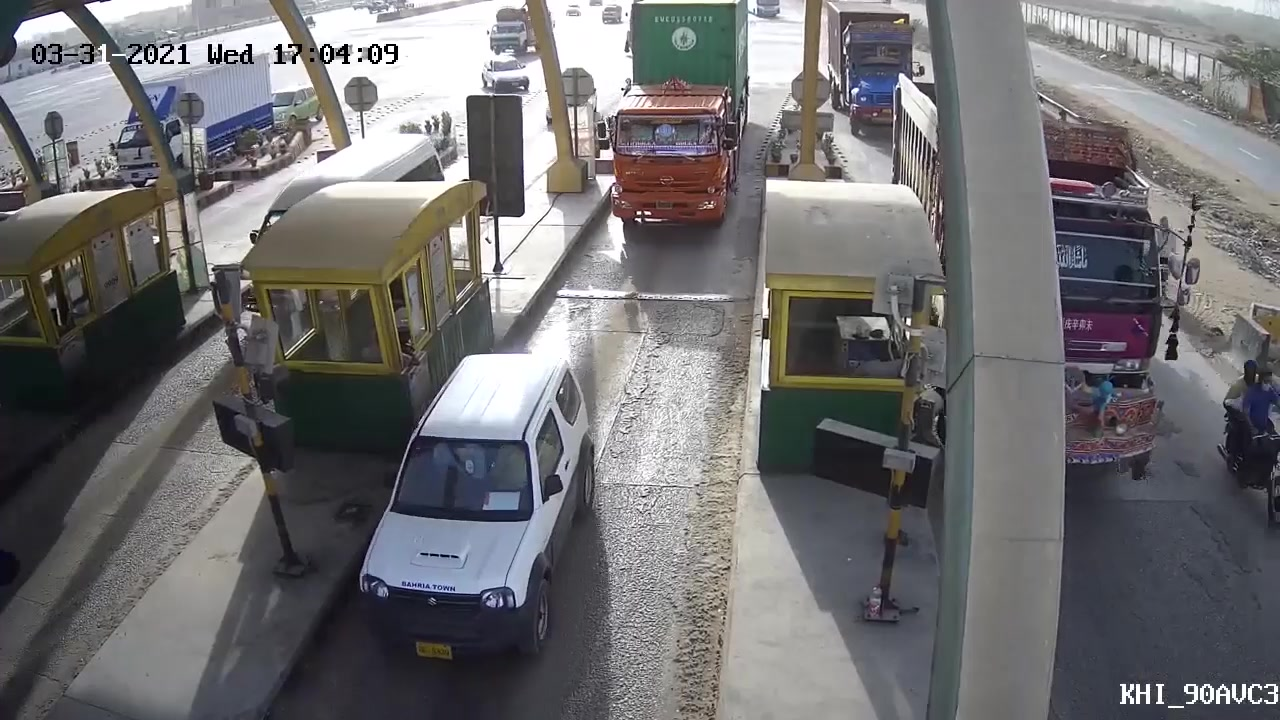F1: (330, 352, 607, 666)
F6: (603, 4, 743, 226)
